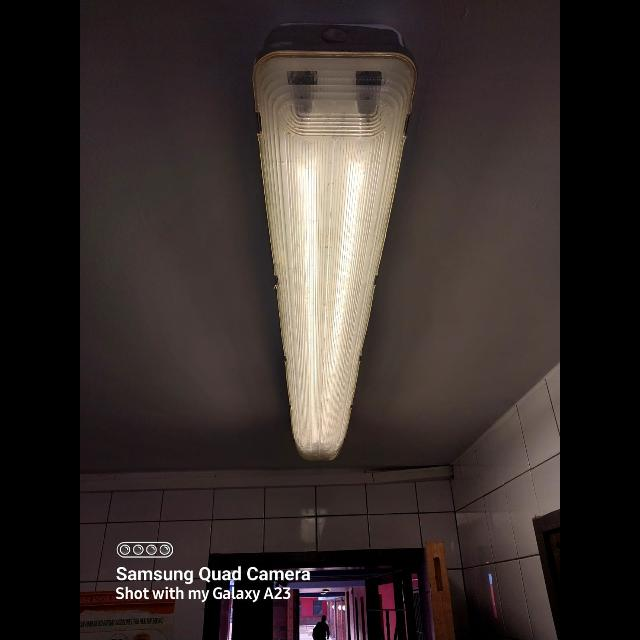Straight-Tube-Fluorescent-Lamp: (244, 18, 418, 490)
